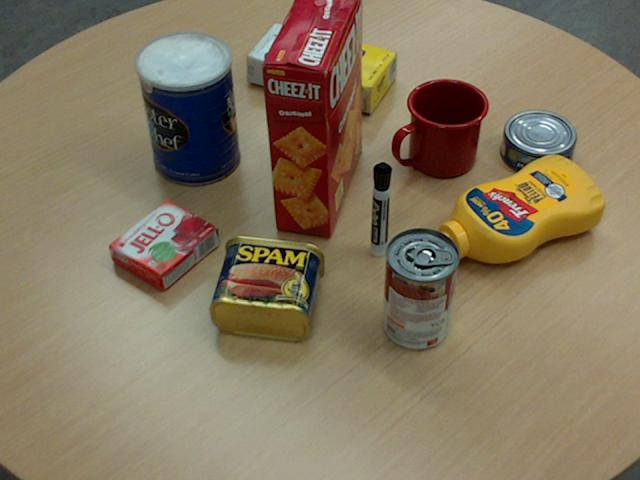cracker_box: (260, 0, 363, 236)
gelatin_box: (108, 198, 217, 289)
large_marker: (371, 163, 391, 256)
master_chef_can: (135, 31, 239, 185)
mug: (392, 77, 489, 177)
mustard_bottle: (427, 154, 603, 263)
potted_meat_can: (208, 234, 323, 339)
sugar_box: (245, 22, 397, 112)
tomato_soup_can: (382, 227, 458, 349)
tuna_fish_can: (499, 109, 575, 175)
